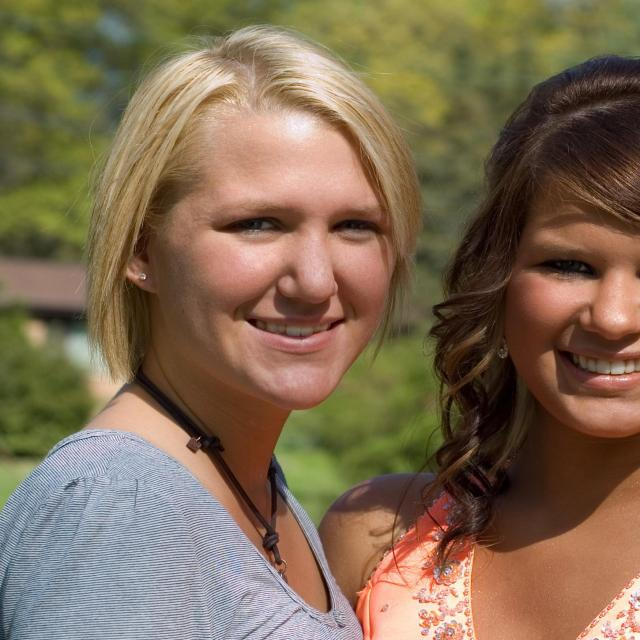no-glass: (215, 206, 397, 242)
